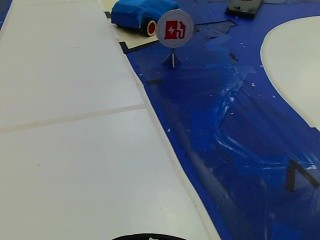battery: (161, 16, 189, 44)
